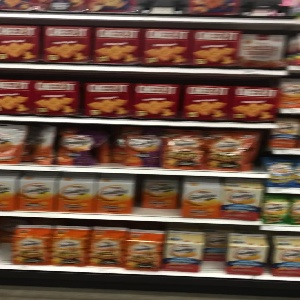void: (136, 177, 182, 217)
